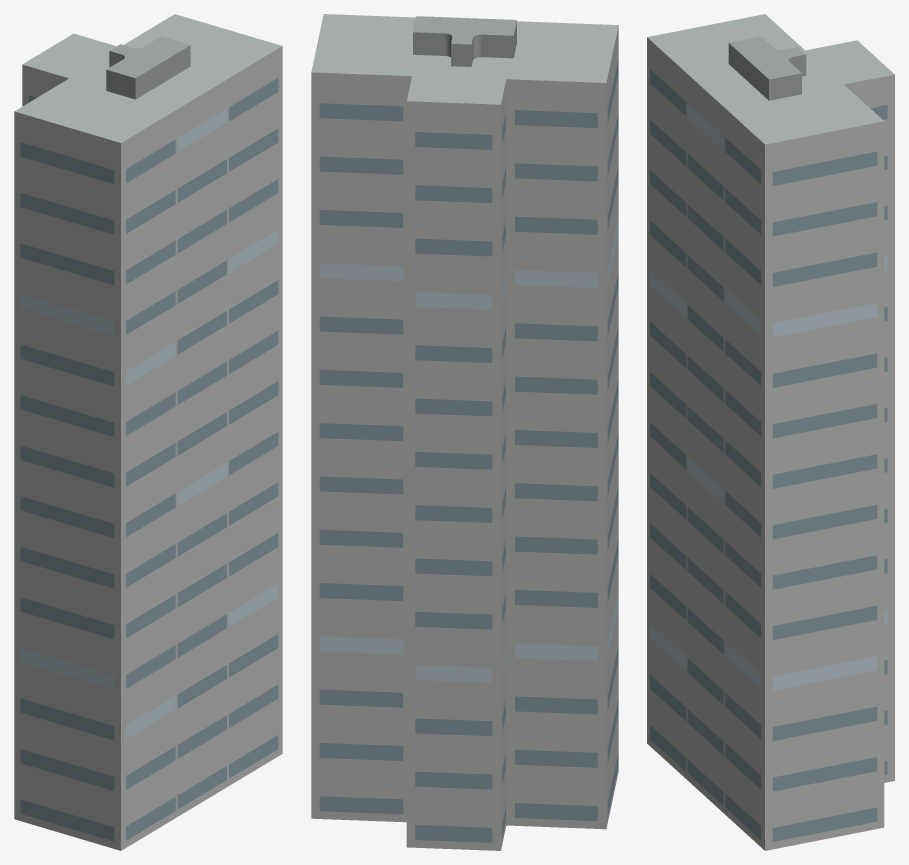
File: fallback-shinbanpo-xi-102.glb
3 views of the same model, side by side, from view 1: azimuth 30°, elevation 25°; view 2: azimuth 150°, elevation 25°; view 3: azimuth 270°, elevation 25° (orthographic). The views are drawn at different scales.
Visible parts, largest first — view 1: fallback-shinbanpo-xi-102; view 2: fallback-shinbanpo-xi-102; view 3: fallback-shinbanpo-xi-102.
Part boxes in pixels (left/top/right/bottom): fallback-shinbanpo-xi-102: left=14, top=14, right=282, bottom=850; fallback-shinbanpo-xi-102: left=311, top=14, right=618, bottom=850; fallback-shinbanpo-xi-102: left=647, top=14, right=894, bottom=850.
Size of the model in its own units: 31.57 by 82 by 25.31.
